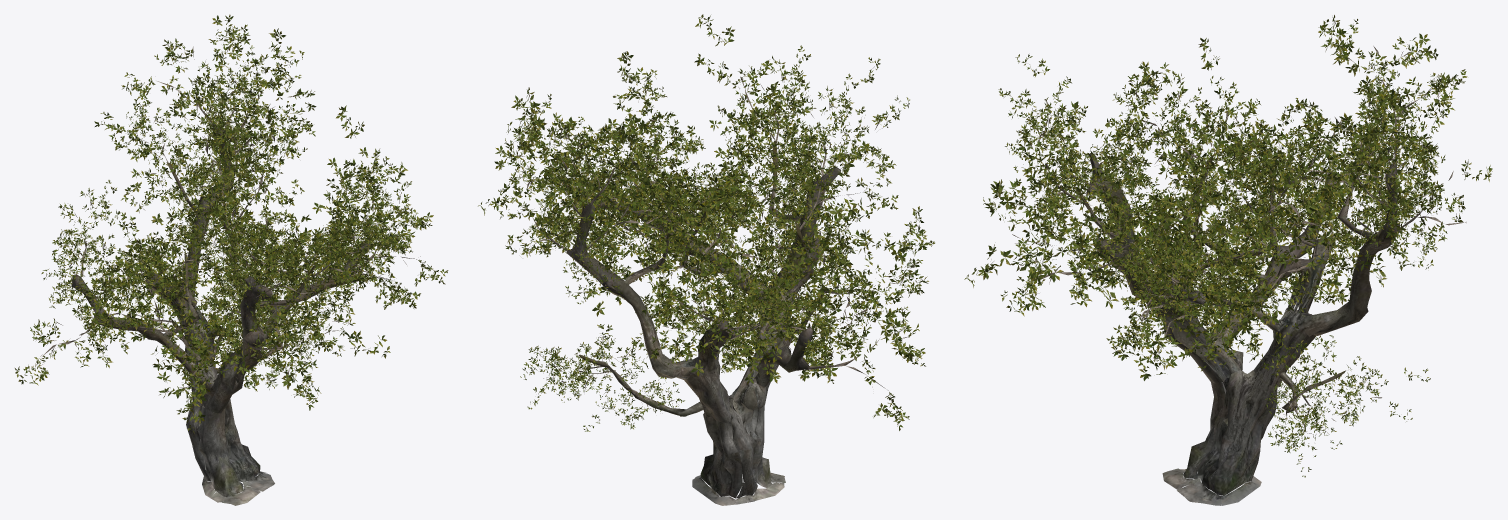
File: island_tree_01_lite.glb
The picture shows the model from 3 angles, left to right: view 1: azimuth 30°, elevation 25°; view 2: azimuth 150°, elevation 25°; view 3: azimuth 270°, elevation 25°; orthographic projection. The views are drawn at different scales.
Parts seen in each view (by area): view 1: island_tree_01_LOD0; view 2: island_tree_01_LOD0; view 3: island_tree_01_LOD0.
Part boxes in pixels (x1,y1,x2,y2): island_tree_01_LOD0: [15, 14, 448, 505]; island_tree_01_LOD0: [478, 14, 934, 505]; island_tree_01_LOD0: [964, 15, 1492, 505].
Bounding box in the file's own units: 4.76 × 5.03 × 4.82.
3 materials, 3 textured.
